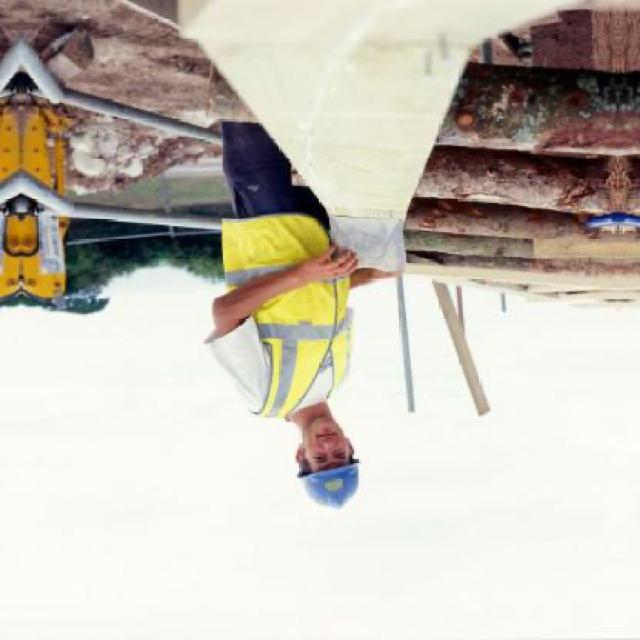con casco: (218, 370, 389, 520)
